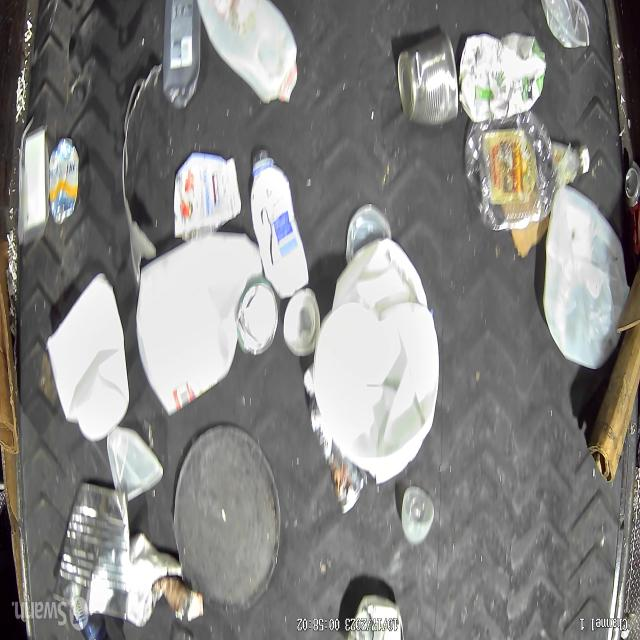can: (396, 31, 458, 127), (236, 282, 278, 357), (46, 135, 79, 226), (284, 288, 320, 358), (625, 164, 640, 252)
milk_jug: (314, 302, 439, 484), (134, 234, 254, 417), (541, 190, 624, 373), (46, 270, 128, 444), (195, 0, 299, 104)
non_white_jug: (458, 33, 546, 124), (174, 152, 242, 240)
plastic_bottle: (462, 115, 587, 232), (162, 0, 201, 110)
